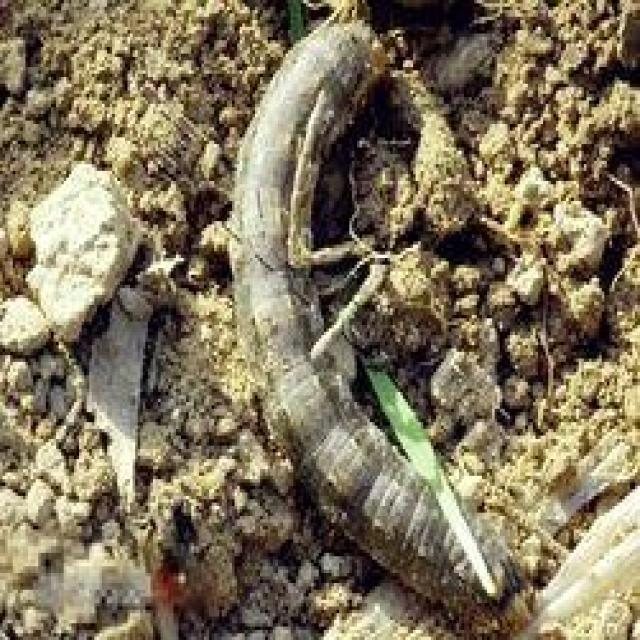black cutworm: (227, 15, 545, 625)
